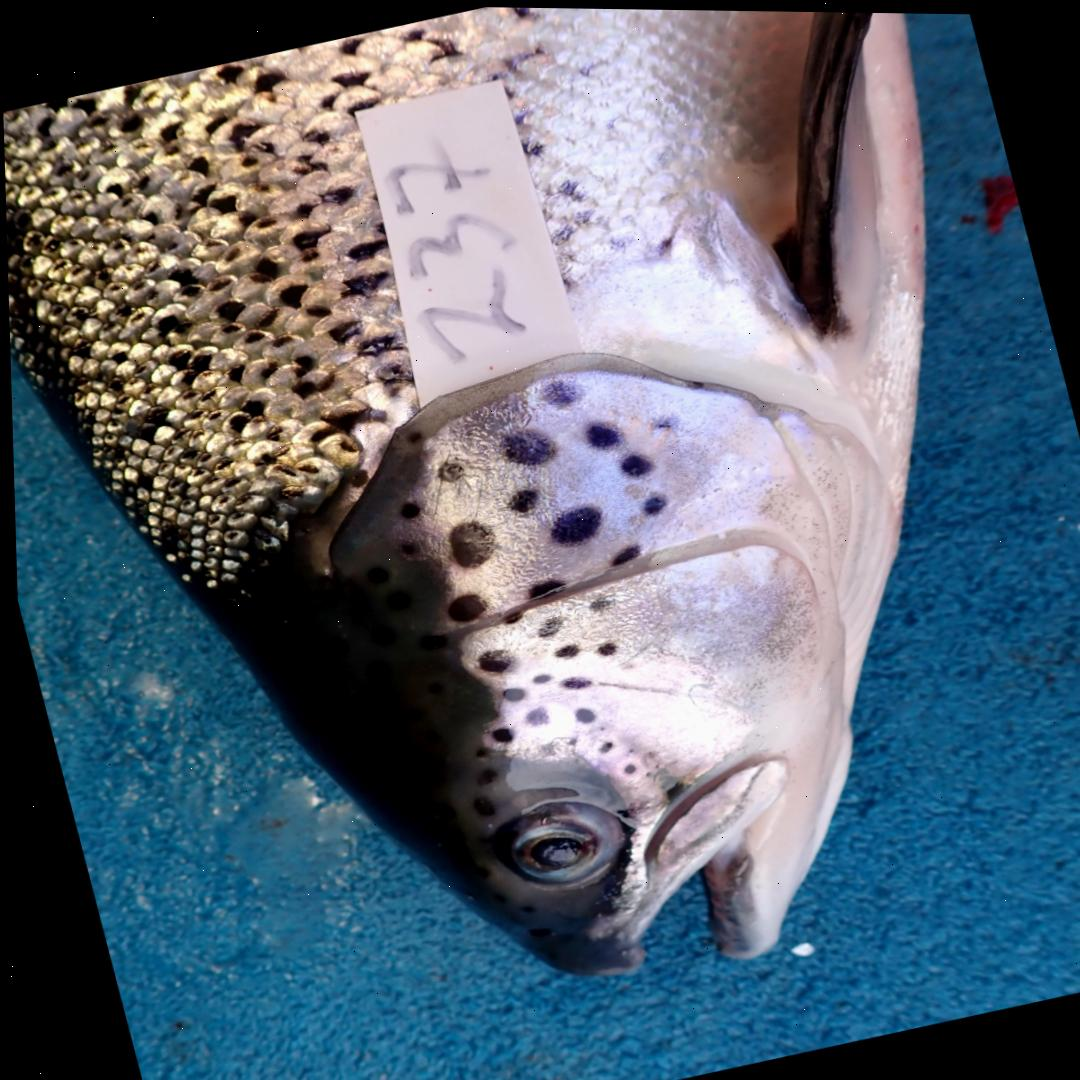spot: (444, 519, 492, 566), (547, 503, 598, 542), (498, 429, 547, 463), (444, 591, 481, 620), (539, 377, 576, 404), (582, 421, 616, 446), (616, 450, 649, 474), (473, 647, 507, 670), (504, 487, 533, 511), (524, 576, 558, 596), (533, 613, 559, 635), (434, 458, 461, 479), (608, 542, 636, 562), (493, 602, 521, 622), (521, 704, 544, 724), (639, 493, 662, 512), (583, 592, 610, 608), (556, 674, 586, 687), (569, 704, 591, 721), (648, 413, 674, 427), (396, 499, 417, 516), (551, 641, 575, 655), (592, 638, 613, 654), (499, 684, 521, 699), (487, 725, 507, 740), (396, 540, 411, 556), (528, 670, 546, 682), (617, 760, 632, 773), (593, 739, 608, 750), (404, 430, 418, 441), (563, 735, 572, 742)
